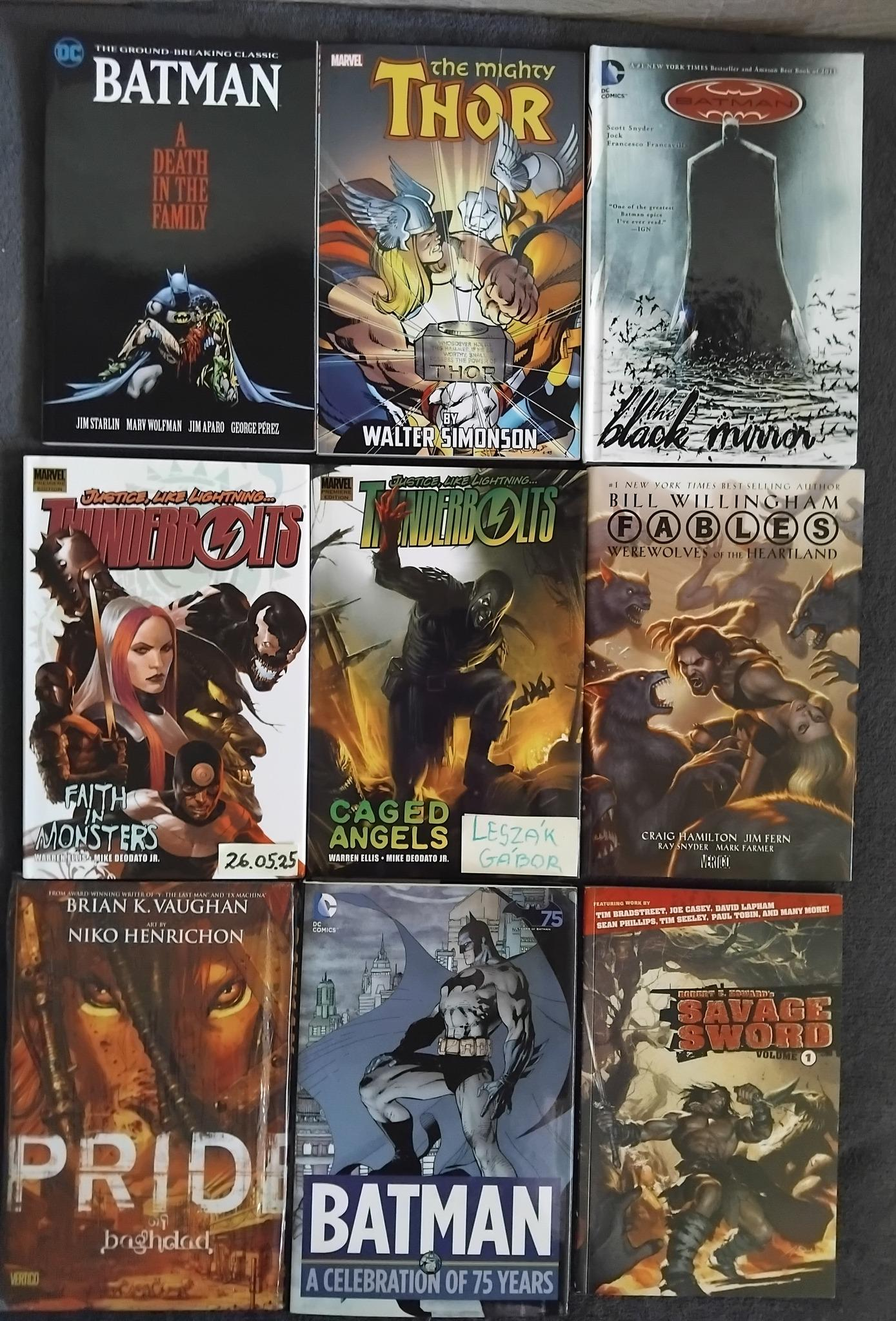comic: (1, 876, 294, 1317), (291, 880, 578, 1321), (577, 462, 864, 886), (23, 456, 309, 880), (583, 46, 864, 467), (42, 34, 319, 453), (309, 464, 586, 880), (314, 42, 586, 462), (574, 887, 844, 1303)
